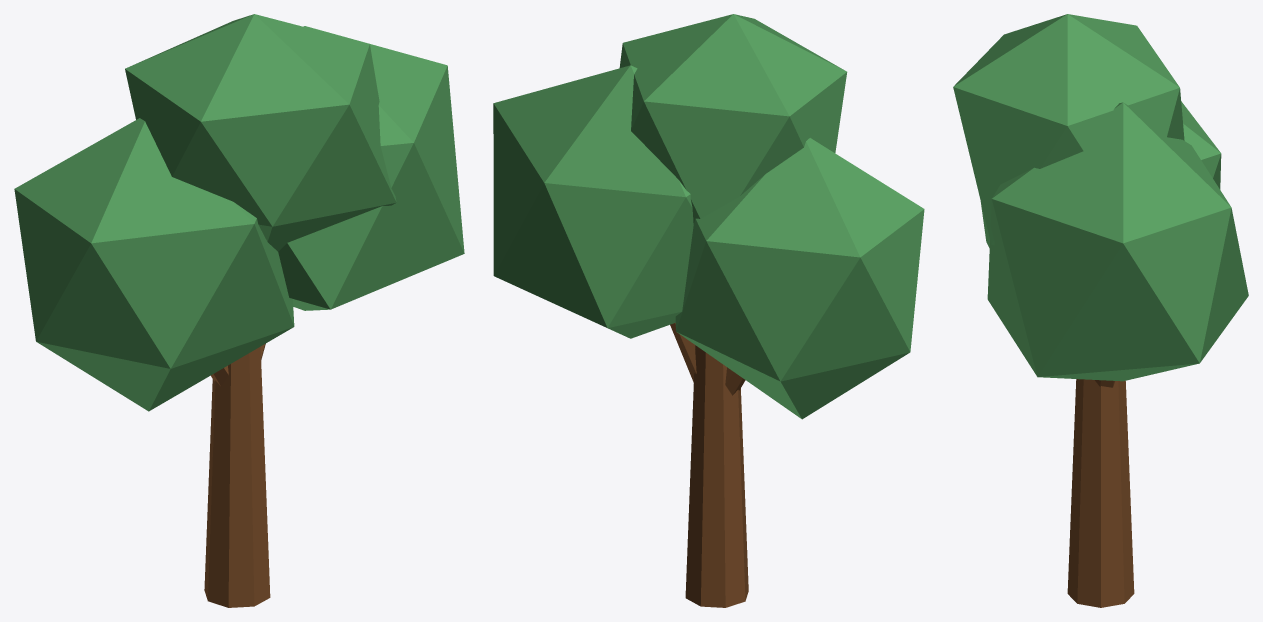
File: tree_broadleaf.glb
3 renders of one model, left to right at view 1: azimuth 30°, elevation 25°; view 2: azimuth 150°, elevation 25°; view 3: azimuth 270°, elevation 25°, orthographic. The views are drawn at different scales.
Visible parts, largest first — view 1: tree_broadleaf__static; view 2: tree_broadleaf__static; view 3: tree_broadleaf__static.
Part boxes in pixels (x1=…): tree_broadleaf__static: x1=14, y1=14, x2=464, y2=607; tree_broadleaf__static: x1=493, y1=14, x2=924, y2=607; tree_broadleaf__static: x1=953, y1=14, x2=1248, y2=607.
Size of the model in its own units: 4.3 by 5.75 by 2.66.
